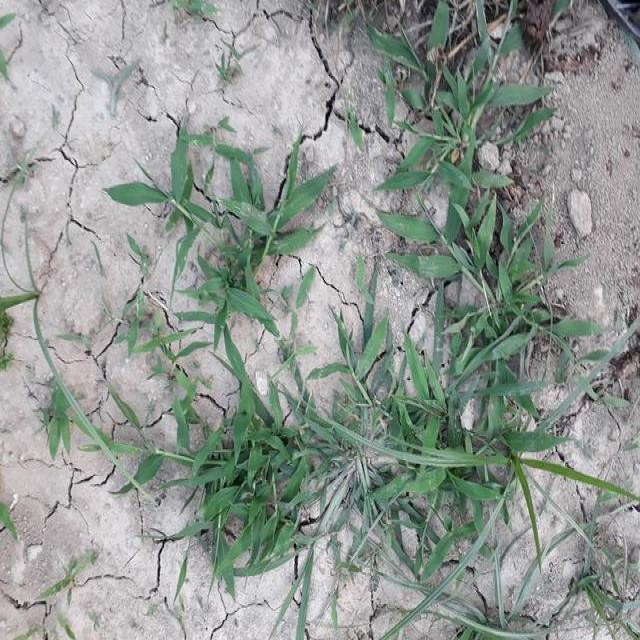weed: (358, 30, 554, 575), (103, 112, 331, 326), (161, 350, 323, 582)
